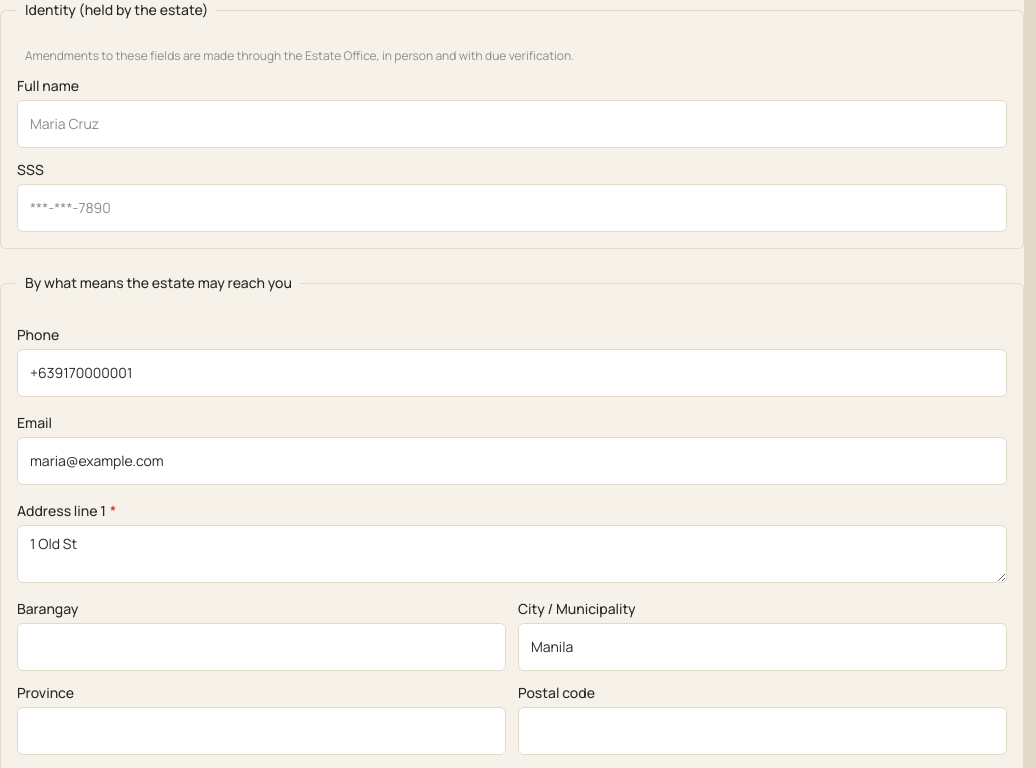
Test: CustomerAccountForm — AC4 mutation error rendering › surfaces a translated error when the mutation throws
Replace the text in the field labelled "Phone" with "09177771234" at (512, 373), box [17,349,1007,397]
(page scrolled)
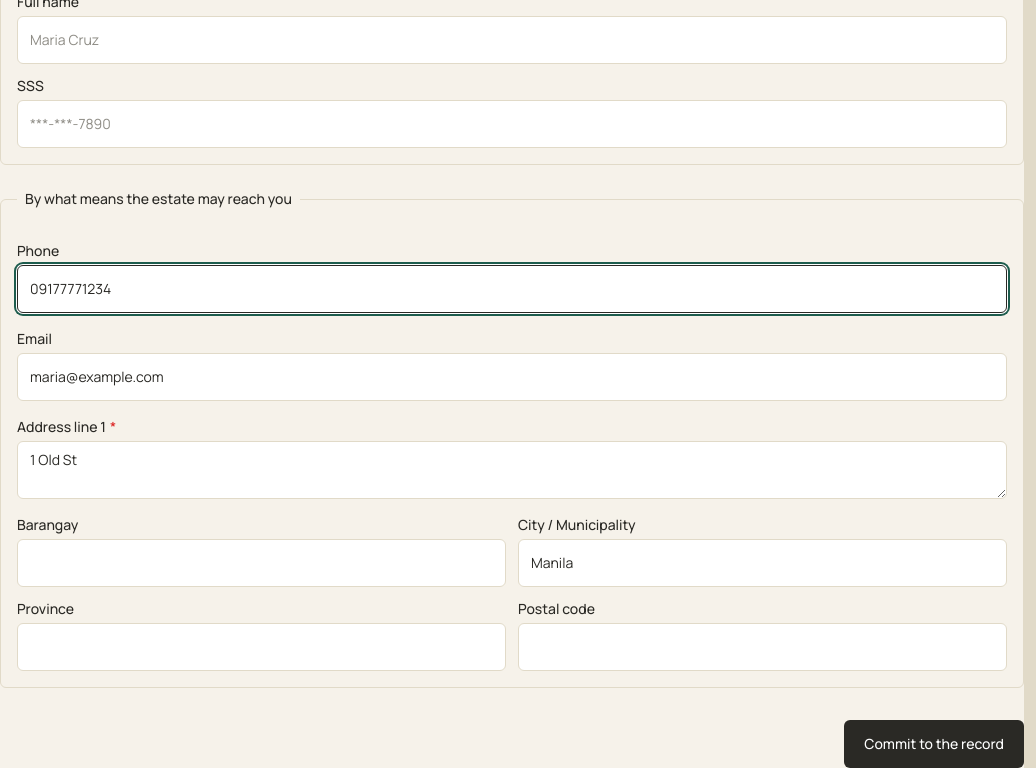
Click the button "Commit to the record".
click(934, 744)  # box [844,720,1024,767]
(page scrolled)
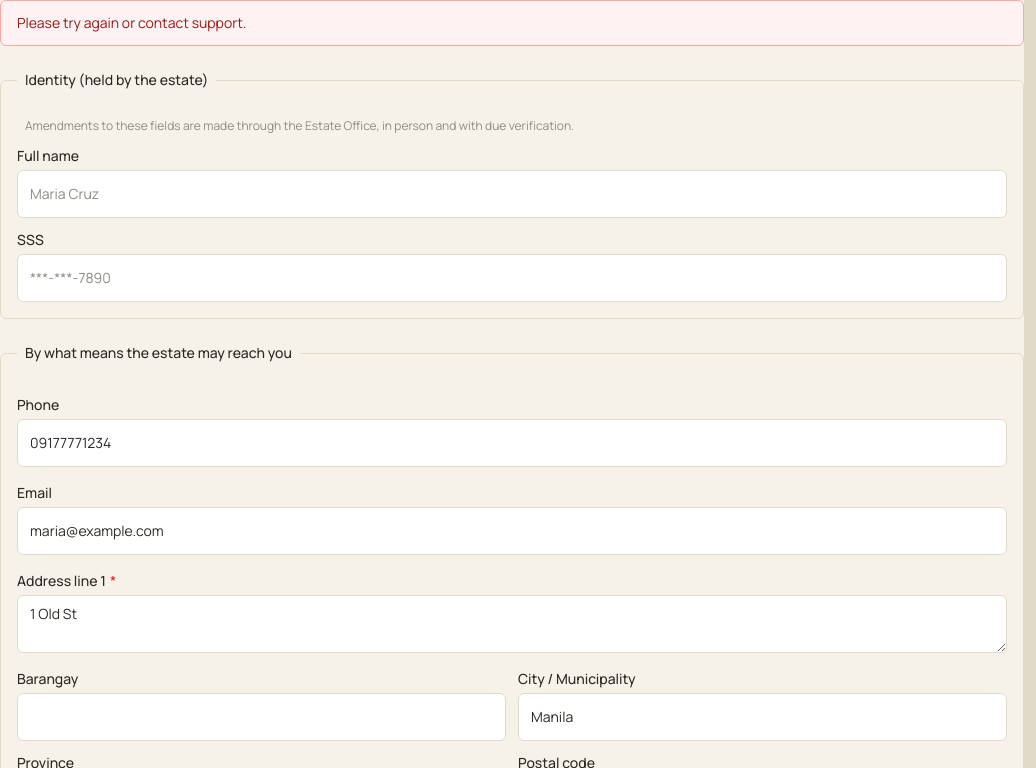
Result: the message "Please try again or contact support." is shown at [0,0,1024,46]
